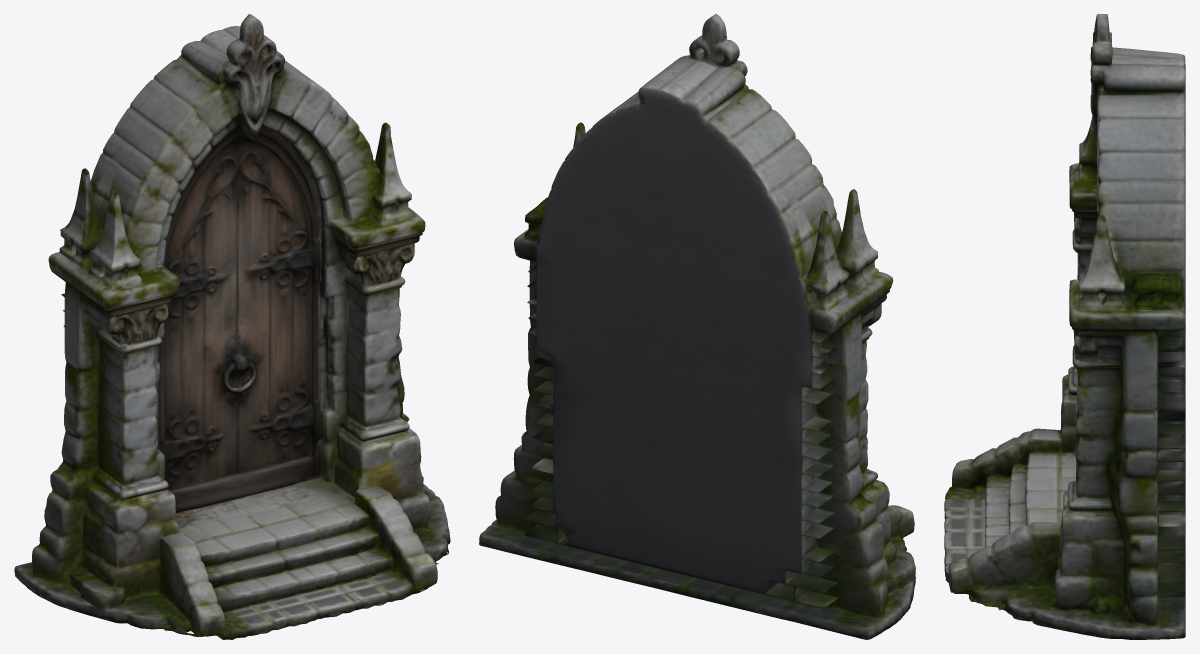
File: medieval-gate.glb
The picture shows the model from 3 angles, left to right: view 1: azimuth 30°, elevation 25°; view 2: azimuth 150°, elevation 25°; view 3: azimuth 270°, elevation 25°; orthographic projection. The views are drawn at different scales.
Visible parts, largest first — view 1: node_0; view 2: node_0; view 3: node_0.
Boxes of the visible parts, <box> form: node_0: <box>14,14,450,639</box>; node_0: <box>479,14,915,639</box>; node_0: <box>944,14,1185,639</box>.
Size of the model in its own units: 0.6972 by 0.9139 by 0.3759.
1 material, 1 textured.
